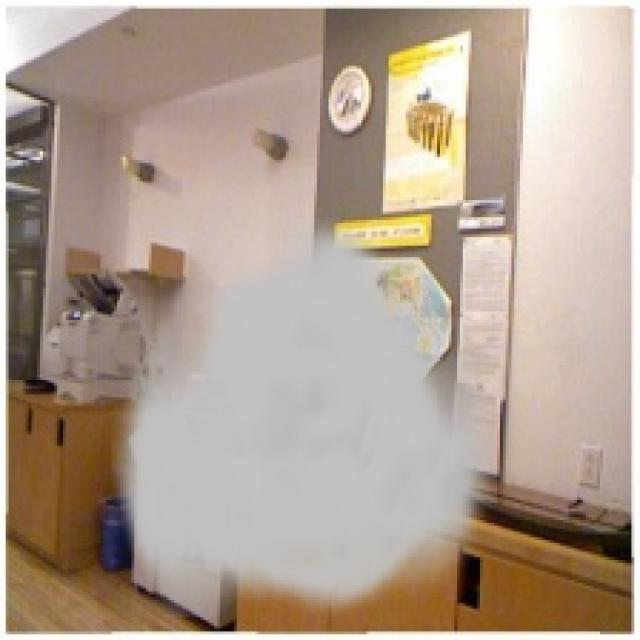smoke: (111, 217, 503, 617)
